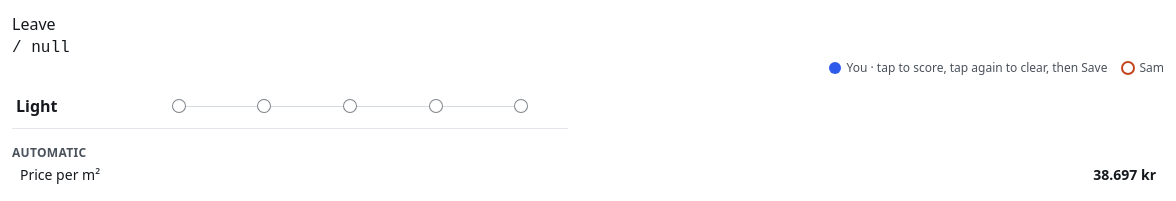
nothing unsaved: leaving does not ask
Expected: the button named "Light 4" is shown, [414,84,458,128]
Click the link "Leave" at (34, 24), box [12,13,56,35]
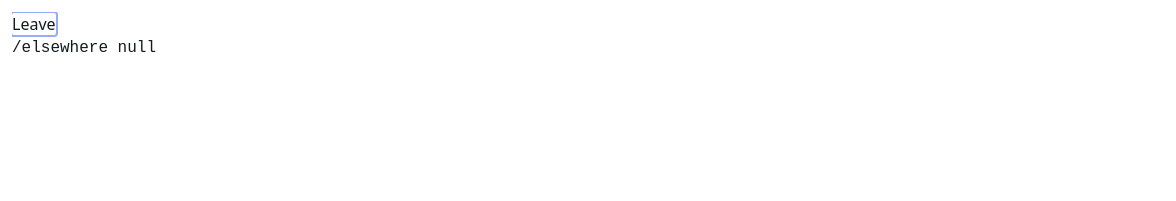
Expected: the text with test id "location" shows "/elsewhere", [12,39,156,57]
